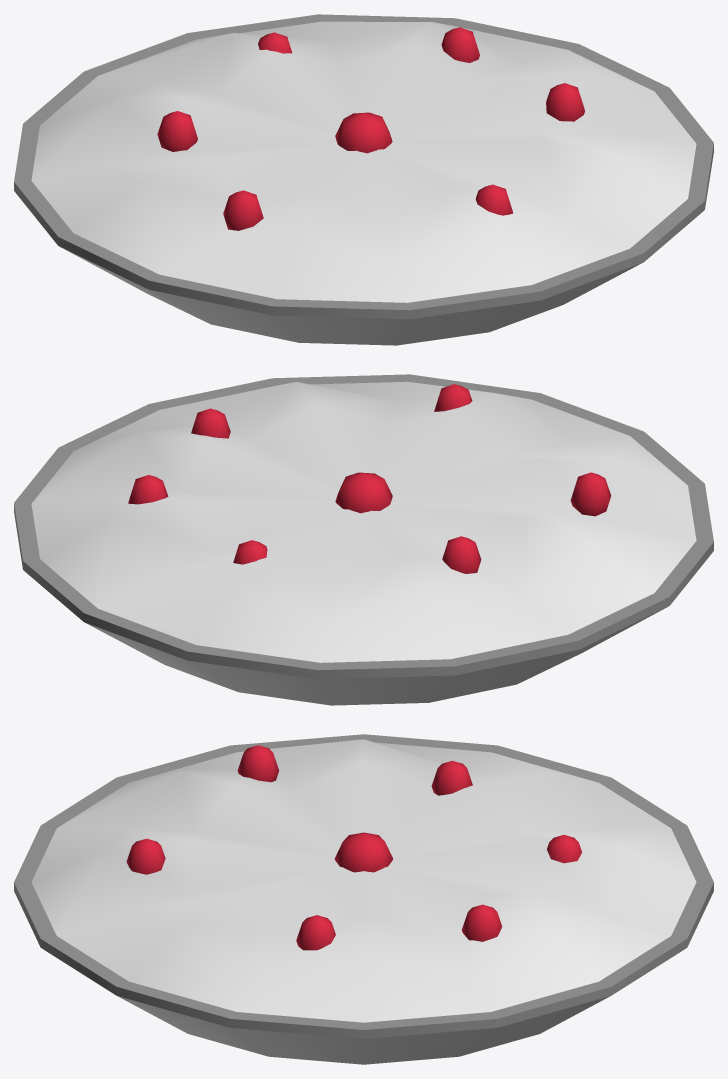
The model's file is Pie.FBX.
3 views of the same model, one above another, from view 1: azimuth 30°, elevation 25°; view 2: azimuth 150°, elevation 25°; view 3: azimuth 270°, elevation 25° (orthographic).
Visible parts, largest first — view 1: Cylinder001; view 2: Cylinder001; view 3: Cylinder001.
Boxes of the visible parts, <box> form: Cylinder001: <box>14,14,713,345</box>; Cylinder001: <box>14,374,713,705</box>; Cylinder001: <box>14,734,713,1064</box>.
Size of the model in its own units: 215 by 215 by 44.2.
